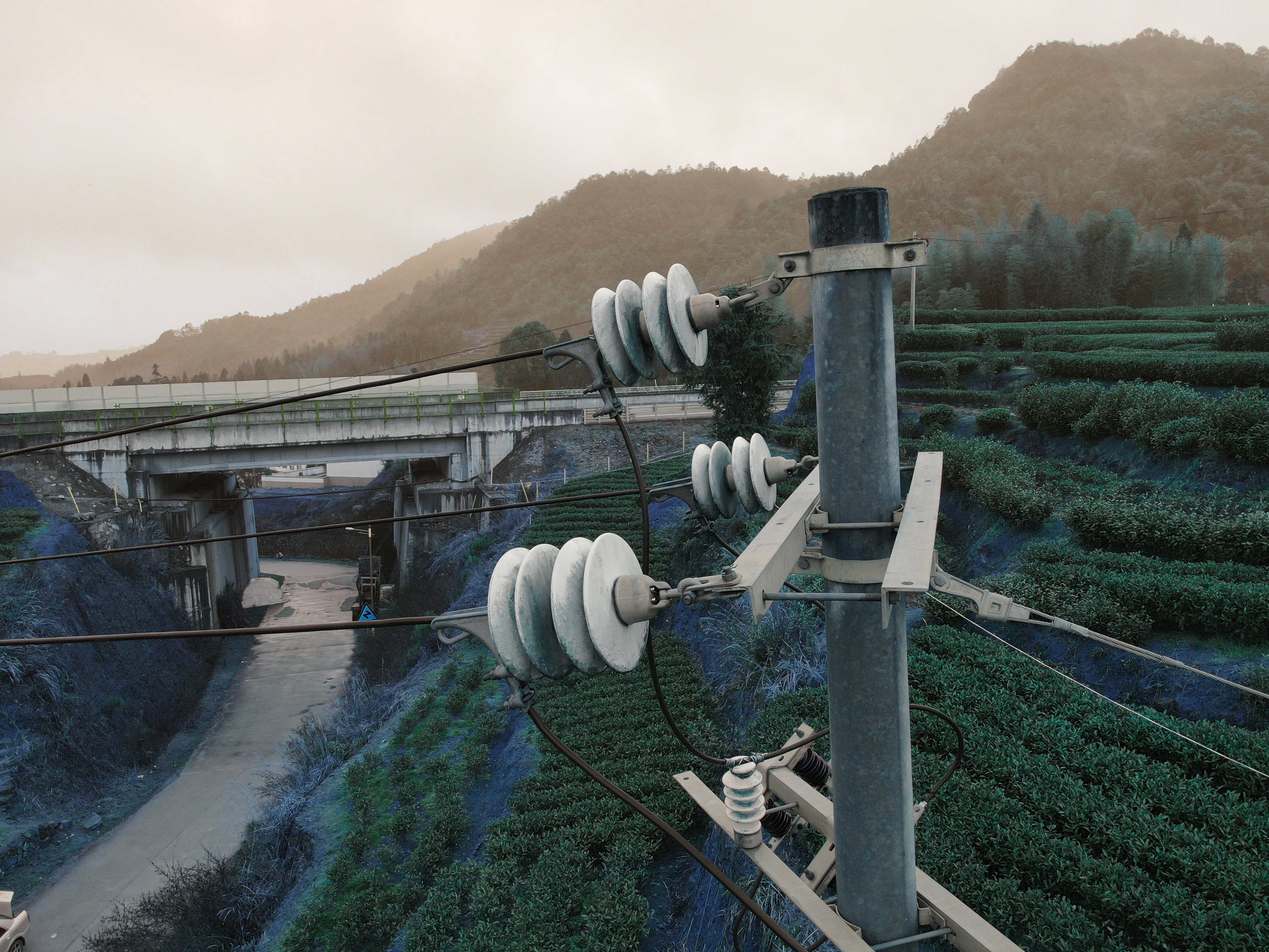severe_soiling_no_discharge_whole: (482, 525, 673, 686), (587, 262, 738, 388), (684, 431, 800, 523), (721, 753, 766, 848)
